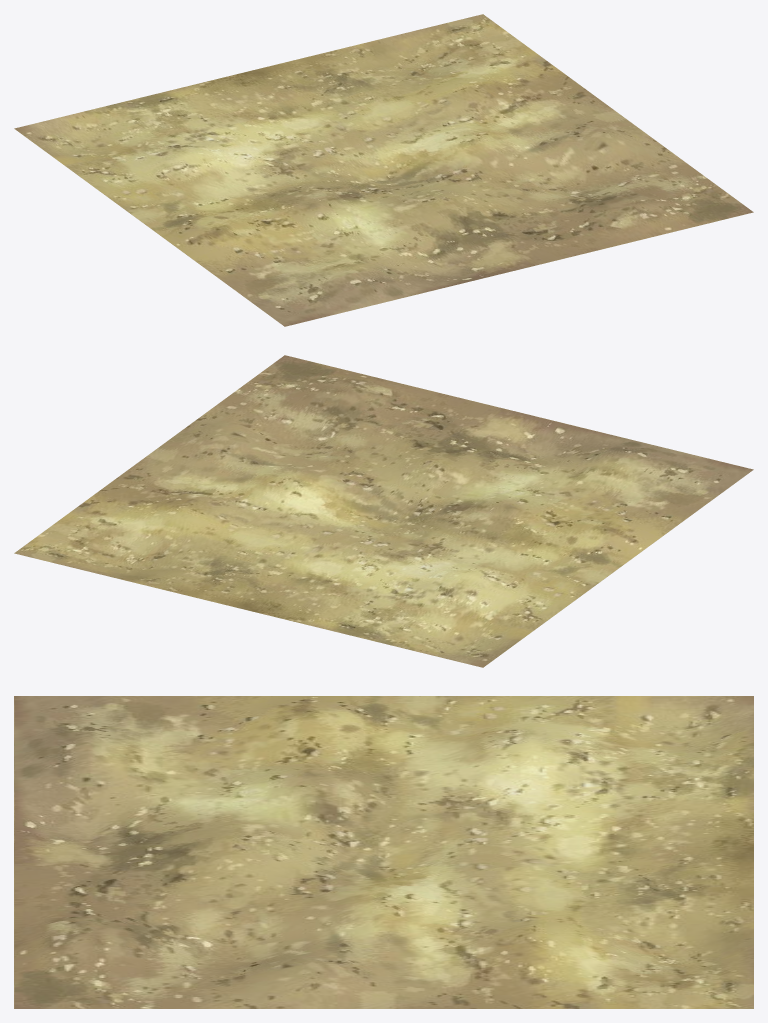
Rendered from ground.fbx.
3 renders of one model, top to bottom at view 1: azimuth 30°, elevation 25°; view 2: azimuth 150°, elevation 25°; view 3: azimuth 270°, elevation 25°, orthographic. The views are drawn at different scales.
Parts seen in each view (by area): view 1: pPlane1; view 2: pPlane1; view 3: pPlane1.
Part boxes in pixels (x1,y1,x2,y2): pPlane1: [14, 14, 753, 326]; pPlane1: [14, 355, 753, 667]; pPlane1: [14, 696, 753, 1008].
Size of the model in its own units: 50 by 1.96 by 50.
